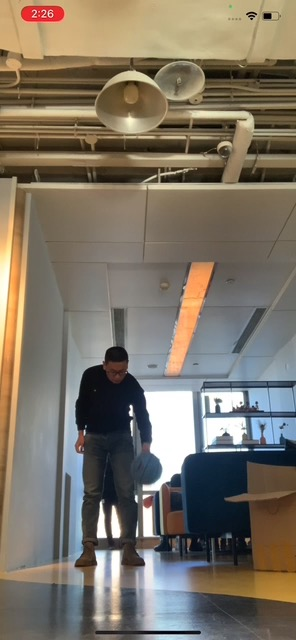ball: (131, 454, 162, 485)
